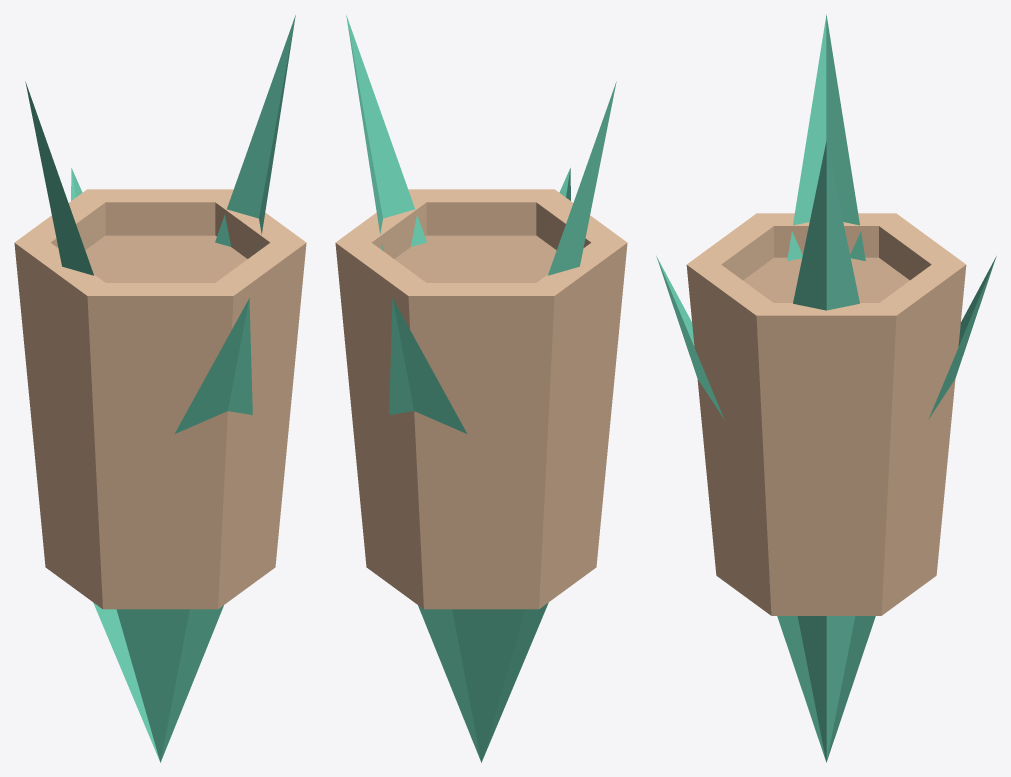
The model's file is pottedPlant.glb.
The picture shows the model from 3 angles, left to right: view 1: azimuth 30°, elevation 25°; view 2: azimuth 150°, elevation 25°; view 3: azimuth 270°, elevation 25°; orthographic projection. The views are drawn at different scales.
Parts seen in each view (by area): view 1: pottedPlant, pottedPlant.001; view 2: pottedPlant, pottedPlant.001; view 3: pottedPlant, pottedPlant.001.
Boxes of the visible parts, x1,y1,x2,y2 form: pottedPlant: [14, 189, 306, 609]; pottedPlant.001: [25, 15, 295, 762]; pottedPlant: [335, 189, 627, 609]; pottedPlant.001: [346, 15, 616, 762]; pottedPlant: [686, 213, 966, 615]; pottedPlant.001: [656, 14, 996, 762].
Size of the model in its own units: 0.6362 by 1.61 by 0.7244.
